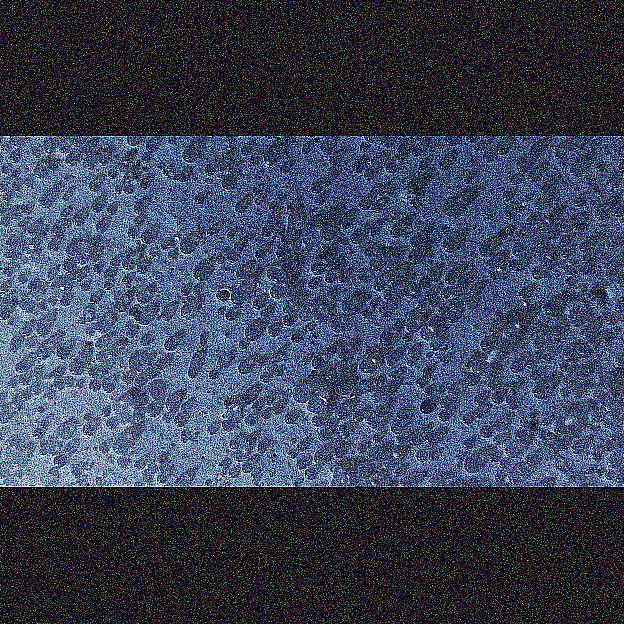GrassBeadSeg: (292, 384, 311, 403), (307, 395, 326, 414), (441, 200, 462, 217), (301, 228, 319, 247), (470, 360, 489, 376), (111, 437, 128, 454), (12, 452, 29, 469), (511, 242, 530, 257), (266, 267, 285, 282), (193, 265, 209, 282), (463, 457, 480, 473), (181, 304, 197, 321), (341, 299, 357, 315), (244, 325, 261, 340), (68, 360, 85, 375), (357, 463, 374, 478), (276, 246, 291, 262), (178, 239, 194, 254), (358, 360, 375, 374), (532, 384, 547, 399), (94, 319, 109, 334), (382, 287, 398, 301), (329, 319, 345, 333), (568, 163, 584, 177), (378, 303, 393, 317), (336, 348, 351, 362), (182, 148, 196, 163), (269, 285, 284, 299), (313, 451, 328, 465), (543, 302, 558, 316), (297, 308, 312, 322), (378, 332, 394, 345), (441, 239, 457, 252), (478, 243, 492, 257), (480, 338, 494, 352), (262, 151, 276, 165), (325, 368, 339, 382), (503, 325, 517, 339), (576, 344, 590, 358), (381, 455, 396, 468), (356, 270, 371, 283), (417, 327, 432, 340), (407, 252, 421, 265), (409, 235, 423, 248), (505, 444, 518, 458), (310, 356, 324, 369), (408, 432, 422, 445), (57, 427, 71, 440), (562, 348, 576, 361), (538, 447, 552, 460), (231, 292, 244, 305), (369, 258, 382, 271), (334, 406, 347, 419), (310, 262, 323, 275), (419, 401, 432, 414), (389, 226, 403, 238), (220, 177, 234, 189), (349, 232, 363, 244), (386, 273, 400, 285), (140, 232, 153, 244), (337, 217, 350, 229), (525, 454, 538, 466), (487, 324, 500, 336), (33, 166, 46, 178), (594, 208, 607, 220), (424, 432, 437, 444), (165, 399, 178, 411), (319, 143, 331, 156), (101, 380, 113, 393), (320, 229, 333, 241), (439, 397, 453, 408), (508, 261, 522, 272), (252, 298, 264, 310), (363, 169, 375, 181), (531, 268, 543, 280), (122, 258, 134, 270), (372, 279, 384, 291), (571, 442, 583, 454), (490, 391, 502, 403), (407, 347, 419, 359), (146, 404, 158, 416), (323, 272, 335, 284), (313, 311, 325, 323), (36, 324, 48, 336), (551, 324, 563, 336), (70, 271, 82, 283), (20, 301, 32, 313), (121, 373, 133, 385), (9, 397, 21, 409), (317, 298, 329, 310), (2, 448, 14, 460), (237, 363, 250, 374), (405, 322, 418, 333), (509, 361, 522, 372), (533, 199, 546, 210), (311, 416, 324, 427), (463, 375, 476, 386), (267, 325, 278, 337), (133, 204, 145, 215), (390, 423, 402, 434), (437, 159, 449, 170), (72, 215, 84, 226), (514, 430, 526, 441), (282, 315, 294, 326), (482, 152, 494, 163), (444, 273, 455, 285), (518, 288, 530, 299), (88, 379, 99, 391), (506, 398, 518, 409), (480, 426, 491, 438), (578, 241, 590, 252), (136, 293, 148, 304), (65, 155, 77, 166), (524, 358, 536, 369), (415, 450, 427, 461), (144, 368, 156, 379), (74, 253, 86, 264), (503, 208, 514, 220), (82, 159, 94, 170), (606, 456, 618, 467), (515, 161, 527, 172), (494, 144, 506, 155), (469, 285, 481, 296), (530, 144, 542, 155), (6, 250, 18, 261), (62, 262, 74, 273), (1, 266, 13, 277), (56, 348, 68, 359), (29, 290, 41, 301), (35, 349, 47, 360), (30, 382, 41, 394), (17, 375, 29, 386), (15, 361, 26, 373), (593, 390, 605, 401), (604, 403, 616, 414), (583, 399, 595, 410), (365, 225, 377, 236), (136, 315, 148, 326), (373, 184, 385, 195), (52, 286, 63, 298), (95, 222, 106, 233), (311, 183, 322, 194), (88, 181, 99, 192), (82, 425, 93, 436), (385, 162, 396, 173), (351, 162, 362, 173), (224, 310, 235, 321), (174, 416, 185, 427), (103, 269, 114, 280), (260, 226, 271, 237), (244, 415, 255, 426), (284, 413, 295, 424), (473, 395, 484, 406), (39, 197, 50, 208), (164, 340, 175, 351), (292, 255, 303, 266), (554, 425, 565, 436), (580, 328, 591, 339), (532, 338, 543, 349), (58, 143, 69, 154), (70, 136, 81, 147), (47, 162, 58, 173), (145, 142, 156, 153), (43, 142, 54, 153), (150, 389, 161, 400), (509, 474, 520, 485), (418, 278, 430, 288), (492, 421, 504, 431), (256, 442, 266, 454), (385, 383, 397, 393), (410, 147, 422, 157), (590, 412, 602, 422), (404, 289, 416, 299), (562, 264, 574, 274), (525, 172, 538, 181), (317, 431, 328, 441), (428, 341, 439, 351), (47, 241, 58, 251), (235, 203, 246, 213), (461, 414, 472, 424), (90, 202, 101, 212), (501, 191, 512, 201), (54, 456, 64, 467), (259, 373, 270, 383), (304, 469, 315, 479), (95, 352, 106, 362), (254, 249, 265, 259), (590, 451, 601, 461), (371, 203, 382, 213), (396, 411, 407, 421), (226, 252, 237, 262), (117, 457, 127, 468), (358, 200, 369, 210), (595, 162, 606, 172), (332, 448, 343, 458), (339, 385, 349, 396), (139, 336, 150, 346), (580, 255, 591, 265), (113, 301, 123, 312), (240, 394, 251, 404), (239, 146, 250, 156), (571, 388, 582, 398), (107, 347, 118, 357), (94, 340, 105, 350), (128, 307, 139, 317), (160, 309, 170, 320), (370, 393, 381, 403), (385, 357, 397, 366), (463, 439, 473, 449), (291, 333, 301, 343), (51, 226, 61, 236), (105, 419, 115, 429), (32, 429, 42, 439), (328, 156, 338, 166), (156, 473, 166, 483), (98, 444, 108, 454), (222, 421, 232, 431), (417, 301, 427, 311), (268, 202, 278, 212), (541, 353, 551, 363), (492, 435, 502, 445), (241, 463, 251, 473), (560, 248, 570, 258), (424, 289, 434, 299), (373, 406, 383, 416), (337, 274, 347, 284), (540, 184, 550, 194), (397, 146, 407, 156), (381, 137, 391, 147), (377, 470, 387, 480), (446, 386, 456, 396), (235, 269, 245, 279), (239, 282, 249, 292), (437, 412, 448, 421), (371, 434, 382, 443), (204, 165, 213, 176), (250, 402, 261, 411), (66, 245, 75, 256), (347, 475, 358, 484), (215, 160, 224, 171), (176, 172, 185, 183), (233, 451, 242, 462), (208, 371, 218, 380), (416, 378, 425, 388), (422, 366, 431, 376), (229, 439, 238, 449), (314, 196, 324, 205), (127, 228, 136, 238), (509, 176, 518, 186), (529, 372, 539, 381), (297, 441, 306, 451), (320, 177, 330, 186), (393, 468, 403, 477), (248, 157, 258, 166), (525, 216, 535, 225), (361, 309, 370, 319), (285, 289, 295, 298), (488, 453, 498, 462), (559, 362, 568, 372), (219, 459, 228, 469), (271, 405, 281, 414), (27, 227, 37, 236), (424, 387, 434, 396), (573, 198, 583, 207), (539, 258, 549, 267), (156, 360, 165, 370), (408, 310, 417, 320), (486, 381, 496, 390), (604, 470, 613, 480), (558, 237, 568, 246), (537, 221, 547, 230), (9, 154, 19, 163), (125, 328, 135, 337), (251, 187, 261, 196), (11, 140, 21, 149), (62, 378, 71, 388), (98, 366, 107, 376), (142, 357, 151, 367), (325, 420, 335, 429), (370, 420, 380, 429), (544, 343, 554, 352), (601, 333, 610, 343), (614, 356, 623, 366), (571, 319, 581, 328), (512, 306, 522, 315), (165, 238, 174, 248), (89, 295, 98, 304), (106, 206, 115, 215), (238, 340, 247, 349), (167, 251, 176, 260), (233, 242, 242, 251), (187, 369, 196, 378), (353, 413, 362, 422), (296, 460, 305, 469), (396, 435, 405, 444), (564, 278, 573, 287), (132, 412, 141, 421), (107, 170, 116, 179), (228, 469, 237, 478), (84, 327, 93, 336), (137, 265, 146, 274), (447, 314, 456, 323), (441, 289, 450, 298), (44, 391, 53, 400), (280, 235, 289, 244), (359, 143, 368, 152), (410, 199, 419, 208), (605, 316, 614, 325), (53, 381, 62, 390), (138, 181, 147, 190), (147, 464, 156, 473), (494, 471, 503, 480), (523, 193, 532, 202), (513, 204, 522, 213), (559, 224, 568, 233), (588, 142, 597, 151), (533, 247, 542, 256), (609, 261, 618, 270), (486, 260, 495, 269), (456, 279, 465, 288), (120, 157, 129, 166), (81, 147, 90, 156), (23, 178, 32, 187), (11, 183, 20, 192), (1, 193, 10, 202), (109, 259, 118, 268), (121, 275, 130, 284), (102, 281, 111, 290), (88, 253, 97, 262), (5, 237, 14, 246), (7, 380, 16, 389), (87, 369, 96, 378), (20, 328, 29, 337), (134, 377, 143, 386), (473, 409, 482, 418), (282, 305, 291, 314), (330, 261, 339, 270), (432, 330, 441, 339), (614, 303, 623, 312), (417, 162, 427, 170), (141, 154, 149, 164), (64, 444, 72, 454), (25, 339, 33, 349), (180, 287, 188, 296), (279, 166, 288, 174), (438, 305, 446, 314), (75, 380, 83, 389), (519, 418, 528, 426), (462, 176, 470, 185), (301, 356, 309, 365), (194, 196, 203, 204), (162, 414, 171, 422), (101, 407, 109, 416), (206, 228, 215, 236), (260, 411, 269, 419), (603, 443, 611, 452), (59, 298, 68, 306), (305, 323, 314, 331), (257, 358, 265, 367), (21, 391, 29, 400), (71, 468, 79, 477), (47, 298, 56, 306), (93, 264, 101, 273), (192, 286, 200, 295), (148, 250, 157, 258), (579, 267, 587, 276), (554, 151, 562, 160), (572, 222, 580, 231), (612, 209, 620, 218), (577, 137, 586, 145), (535, 236, 544, 244), (497, 231, 505, 240), (605, 271, 613, 280), (300, 146, 309, 154), (224, 136, 233, 144), (96, 157, 105, 165), (31, 149, 40, 157), (11, 212, 19, 221), (22, 206, 30, 215), (0, 218, 8, 227), (124, 290, 133, 298), (32, 370, 40, 379), (129, 389, 137, 398), (181, 404, 189, 413), (47, 468, 56, 476), (38, 447, 47, 455), (13, 469, 22, 477), (142, 474, 151, 482), (39, 420, 48, 428), (222, 399, 231, 407), (263, 396, 272, 404), (216, 360, 225, 368), (356, 445, 365, 453), (338, 425, 347, 433), (434, 386, 443, 394), (363, 416, 372, 424), (609, 146, 618, 154), (127, 137, 136, 145), (260, 310, 269, 318), (293, 300, 301, 309), (402, 334, 410, 342), (207, 426, 215, 434), (288, 450, 296, 458), (134, 461, 142, 469), (215, 255, 223, 263), (273, 368, 281, 376), (566, 475, 574, 483), (445, 471, 453, 479), (179, 434, 187, 442), (540, 418, 548, 426), (450, 302, 458, 310), (461, 297, 469, 305), (29, 240, 37, 248), (22, 246, 30, 254), (48, 448, 56, 456), (112, 404, 120, 412), (470, 353, 478, 361), (463, 361, 471, 369), (499, 460, 507, 468), (545, 432, 553, 440), (584, 467, 592, 475), (593, 468, 601, 476), (400, 479, 408, 487), (308, 281, 316, 289), (327, 346, 335, 354), (251, 473, 258, 482), (429, 452, 436, 461), (47, 272, 54, 281), (18, 221, 25, 230), (134, 218, 141, 226), (37, 406, 44, 414), (254, 197, 261, 205), (80, 284, 88, 291), (18, 276, 25, 284), (286, 204, 293, 212), (37, 303, 44, 311), (245, 437, 253, 444), (366, 452, 374, 459), (440, 358, 448, 365), (560, 389, 568, 396), (562, 379, 570, 386), (307, 219, 314, 227), (27, 283, 35, 290), (60, 211, 67, 218), (2, 298, 9, 305), (0, 286, 7, 293), (406, 360, 412, 367), (227, 232, 233, 239), (61, 195, 68, 201), (62, 175, 69, 181), (51, 192, 58, 198), (113, 188, 120, 194), (115, 165, 122, 171), (123, 176, 130, 182), (124, 188, 131, 194), (0, 168, 7, 174), (63, 222, 70, 228), (75, 479, 82, 485), (351, 393, 357, 400), (600, 147, 606, 154), (254, 173, 260, 180), (28, 256, 35, 262), (124, 322, 131, 328), (159, 244, 166, 250), (216, 308, 223, 314), (310, 333, 317, 339), (10, 173, 16, 179), (83, 415, 89, 421), (9, 347, 15, 353), (100, 473, 106, 479), (289, 438, 295, 444), (452, 465, 458, 471), (427, 478, 433, 484), (608, 434, 614, 440), (602, 422, 608, 428), (615, 476, 621, 482), (598, 382, 604, 388), (533, 351, 539, 357), (617, 166, 623, 172), (425, 353, 431, 359), (434, 353, 440, 359), (531, 327, 537, 333), (603, 264, 609, 270), (514, 233, 520, 239), (557, 262, 563, 268), (65, 190, 72, 195), (2, 147, 8, 152), (335, 439, 340, 445), (280, 144, 285, 150), (189, 435, 194, 441), (472, 147, 477, 152), (386, 191, 391, 196), (312, 138, 317, 143), (163, 171, 168, 176), (7, 320, 12, 325), (92, 446, 96, 451), (120, 421, 125, 425), (204, 481, 208, 486), (293, 483, 298, 487), (199, 342, 204, 346), (112, 297, 117, 301), (268, 473, 272, 477), (34, 420, 38, 424), (171, 176, 175, 180), (157, 166, 161, 170), (159, 168, 163, 172), (135, 242, 139, 246), (20, 262, 24, 266), (14, 265, 18, 269), (156, 316, 160, 320), (125, 285, 129, 289), (271, 237, 275, 241)
